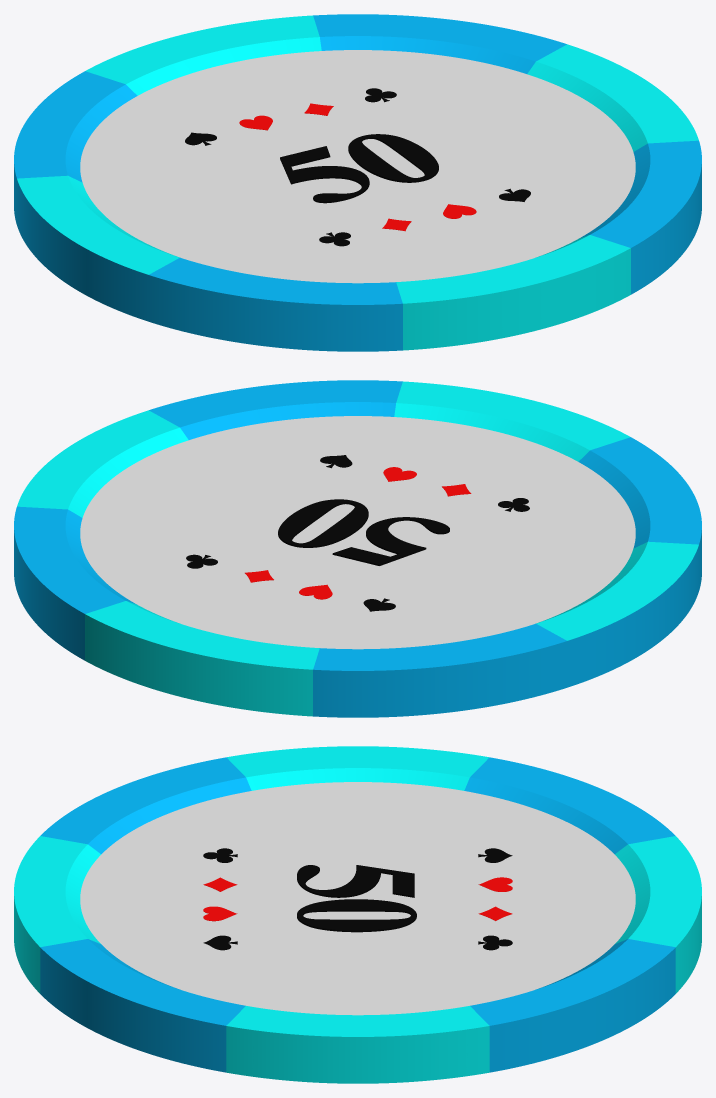
The model's file is Value50Chip.fbx.
3 views of the same model, one above another, from view 1: azimuth 30°, elevation 25°; view 2: azimuth 150°, elevation 25°; view 3: azimuth 270°, elevation 25° (orthographic).
Visible parts, largest first — view 1: Base, Value01; view 2: Base, Value01; view 3: Base, Value01.
Boxes of the visible parts, x1,y1,x2,y2 form: Base: (14,14,701,351); Value01: (280,134,438,203); Base: (14,380,701,717); Value01: (278,499,449,565); Base: (14,746,701,1083); Value01: (297,865,416,932).
Bounding box in the file's own units: 80 × 6 × 80.
